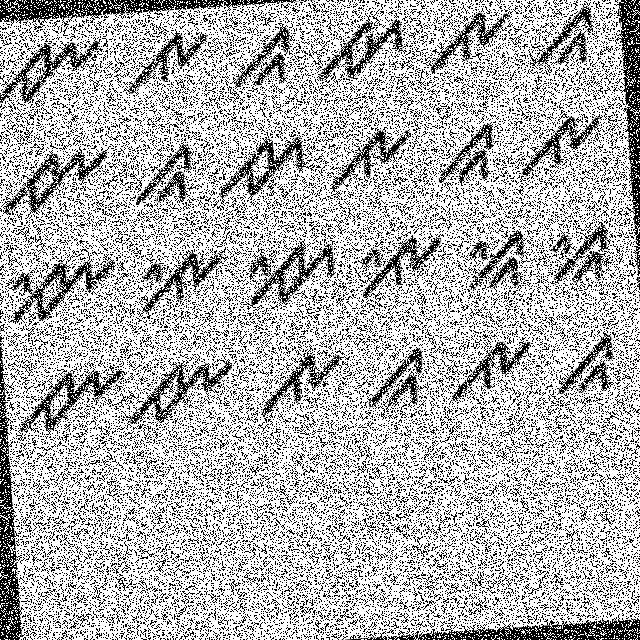a: (117, 22, 214, 108), (444, 328, 538, 412), (419, 0, 515, 79), (321, 118, 419, 192), (510, 105, 605, 181), (254, 344, 346, 418)
i: (135, 234, 230, 317), (351, 230, 449, 304)
ja: (311, 7, 411, 98), (215, 131, 309, 205)
ji: (238, 228, 340, 314)
ngga: (125, 136, 204, 220), (548, 327, 628, 408), (360, 340, 432, 420), (529, 0, 606, 72), (430, 115, 503, 189), (228, 22, 298, 98)
nggi: (452, 212, 534, 295), (537, 212, 616, 294)
nja: (0, 22, 109, 123), (0, 140, 115, 229), (10, 360, 126, 448), (125, 352, 243, 438)
nji: (0, 240, 131, 336)
